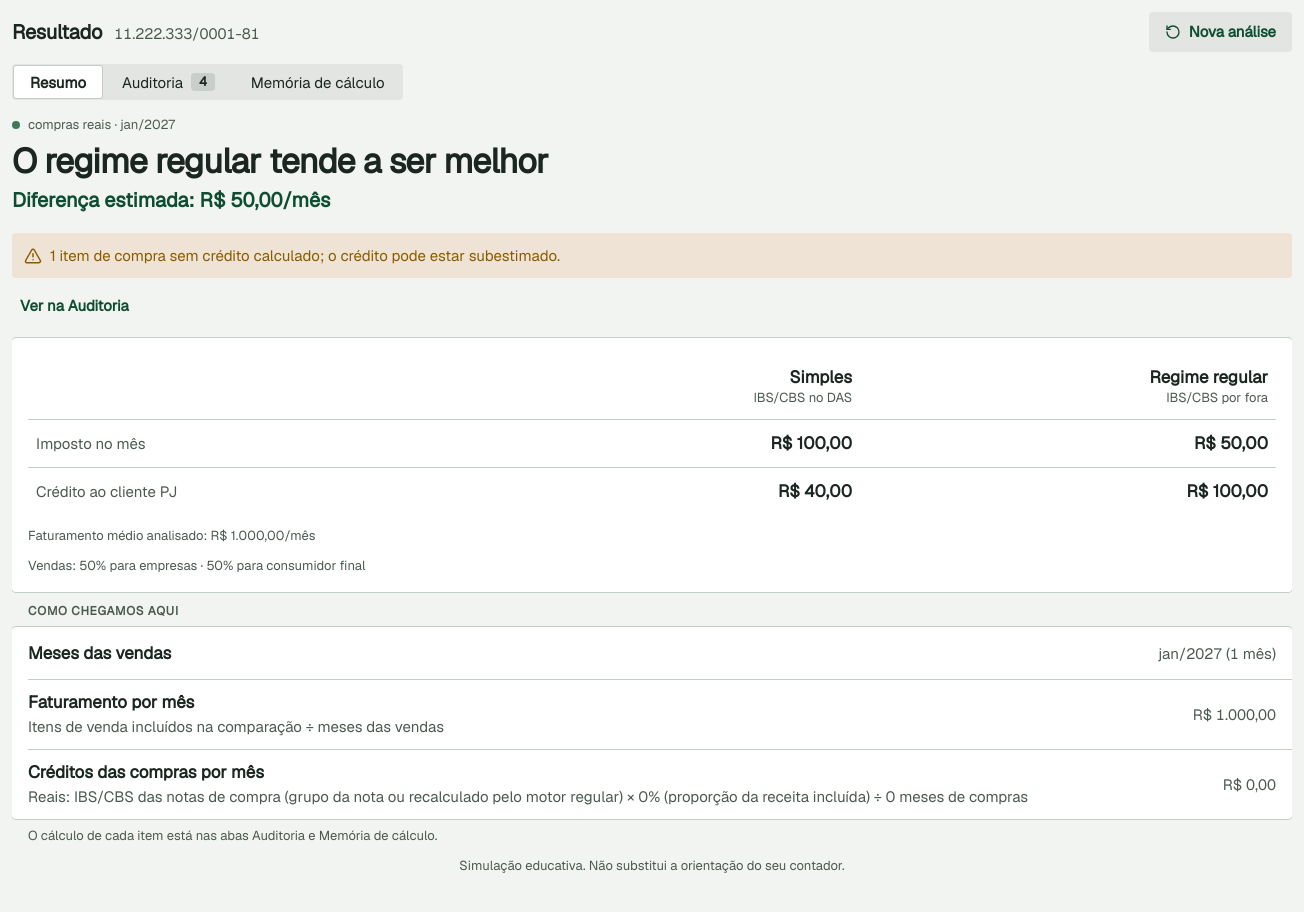
Resultado › o atalho de compras sem crédito abre a Auditoria só com compras sem cálculo
Click the button "Ver na Auditoria" at (74, 306), box left=12, top=286, right=137, bottom=326
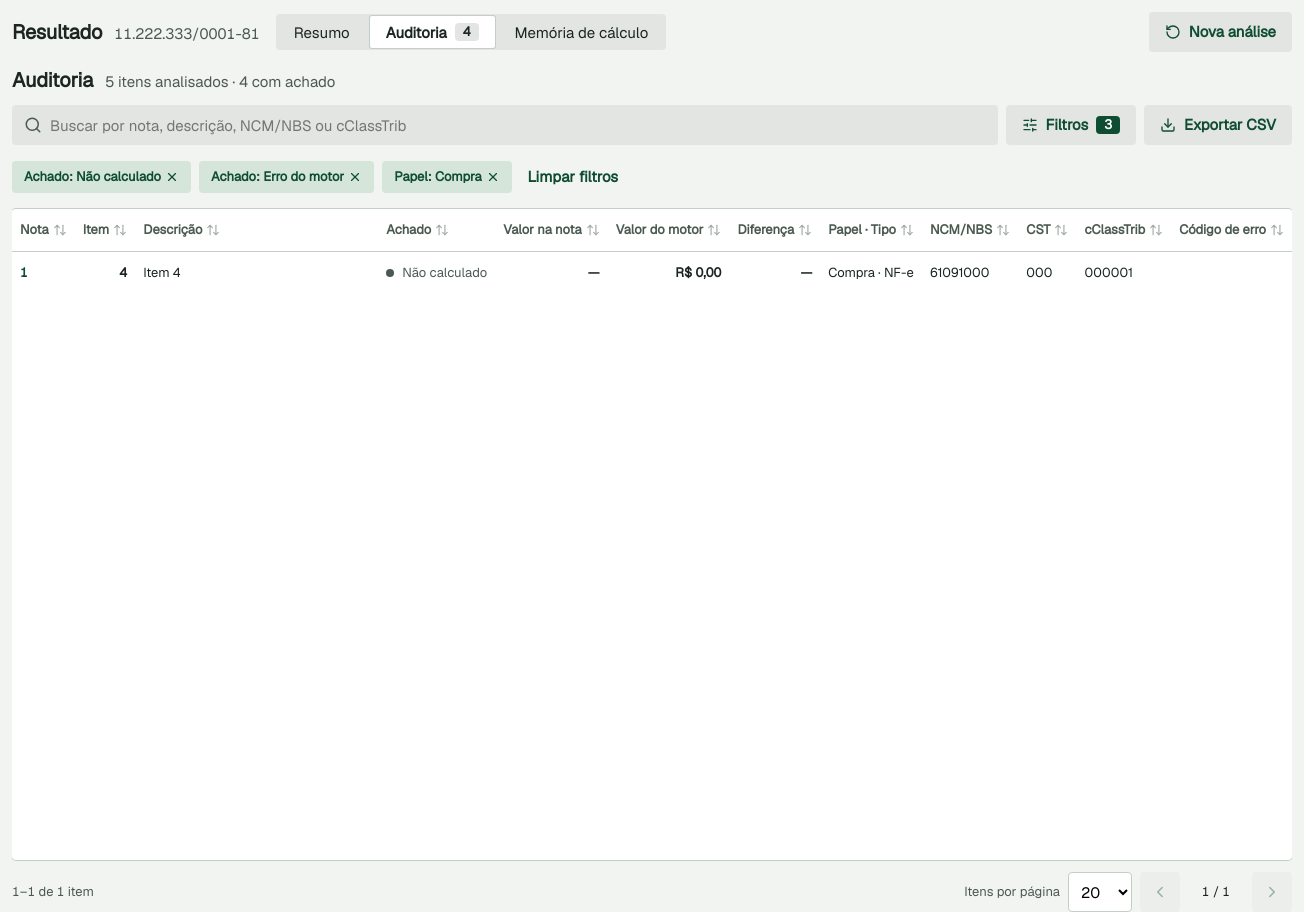
Result: the row that starts with "Item 4" shows "Compra" at left=828, top=264, right=914, bottom=281
Result: the button with aria-label "Remover filtro Papel: Compra" is shown at left=382, top=161, right=512, bottom=193
